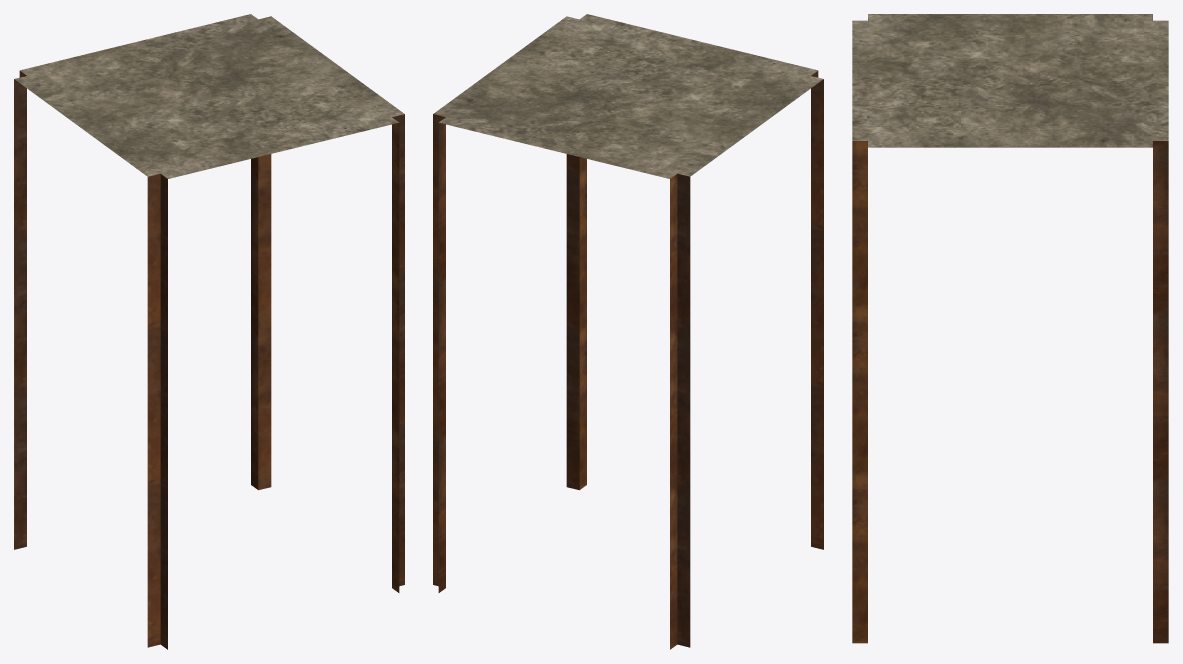
File: 2x2_FourWay_Hallway.fbx
The picture shows the model from 3 angles, left to right: view 1: azimuth 30°, elevation 25°; view 2: azimuth 150°, elevation 25°; view 3: azimuth 270°, elevation 25°; orthographic projection. The views are drawn at different scales.
Visible parts, largest first — view 1: 2x2FourWayHallwayBaked; view 2: 2x2FourWayHallwayBaked; view 3: 2x2FourWayHallwayBaked.
Part boxes in pixels (<box>): 2x2FourWayHallwayBaked: <box>14,14,404,649</box>; 2x2FourWayHallwayBaked: <box>433,14,823,649</box>; 2x2FourWayHallwayBaked: <box>852,14,1168,643</box>.
Bounding box in the file's own units: 200 × 350 × 200.
